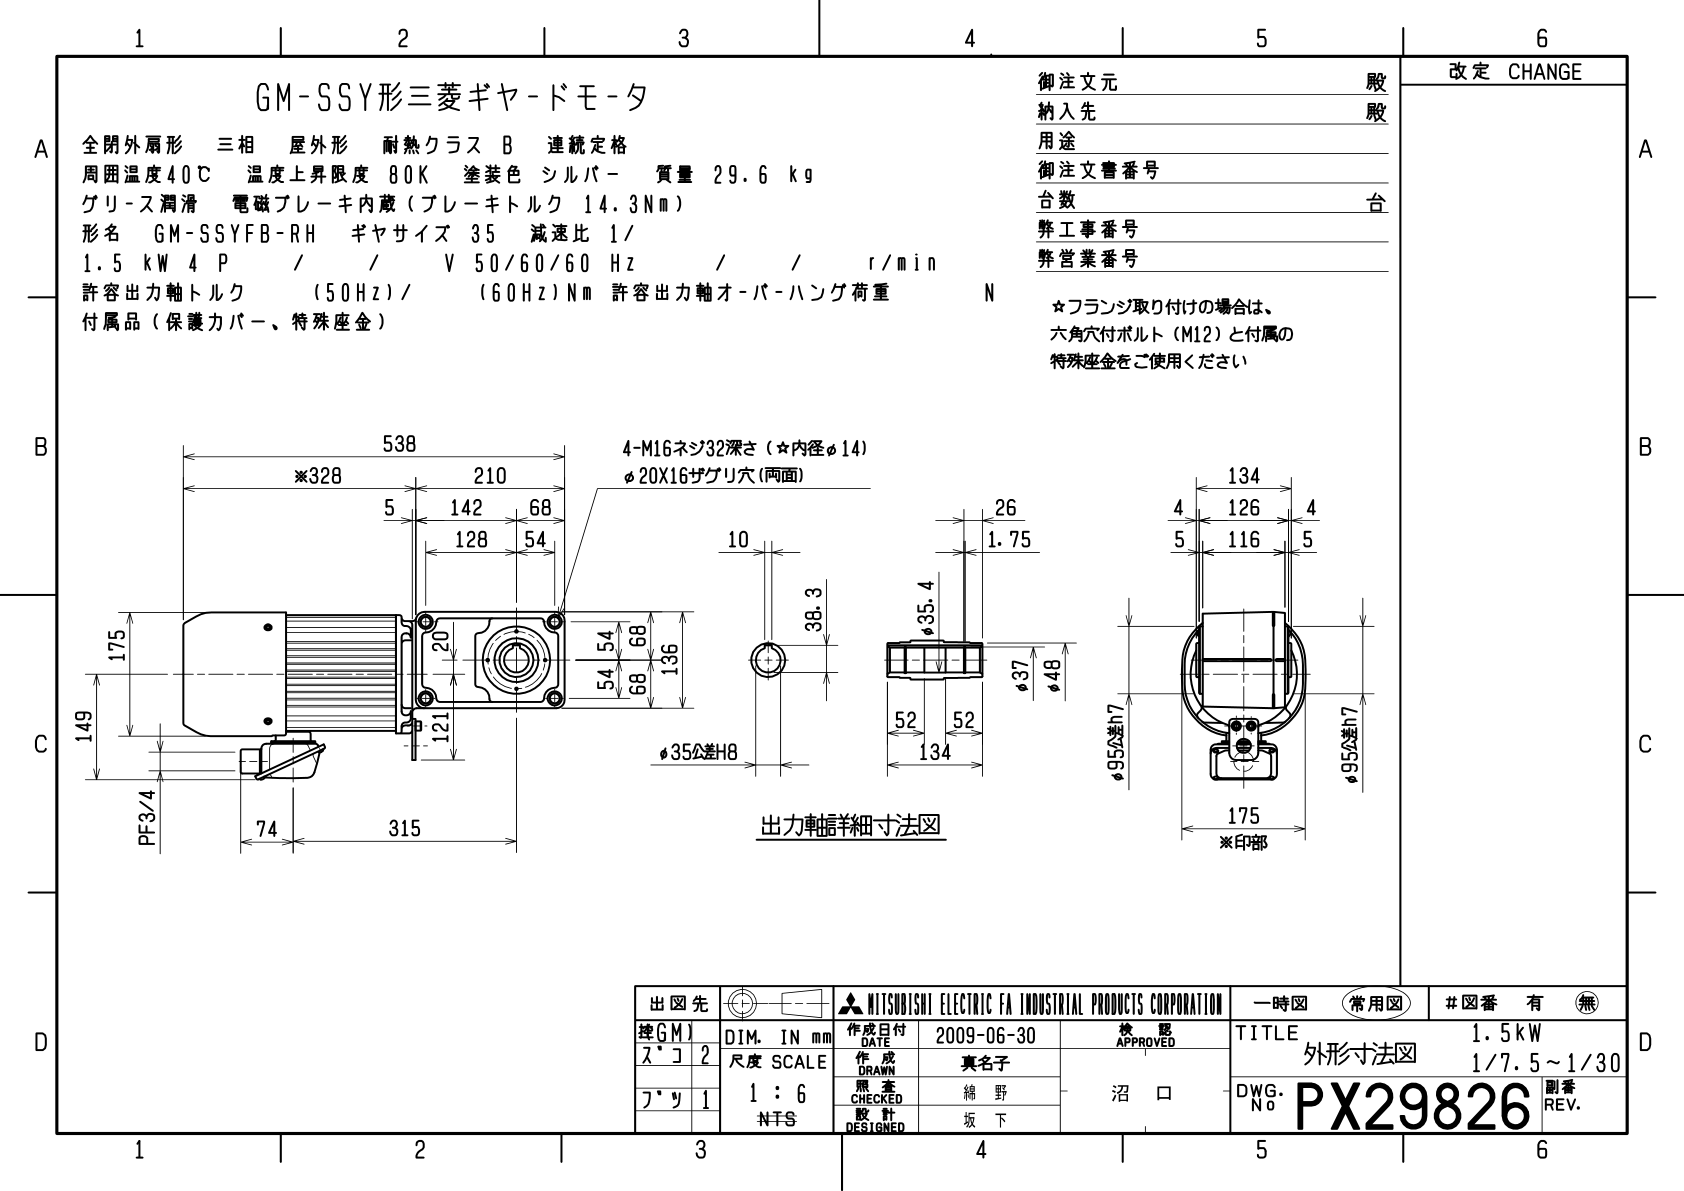GM_SSY_屋外_三相: (1, 1, 1669, 1186)
